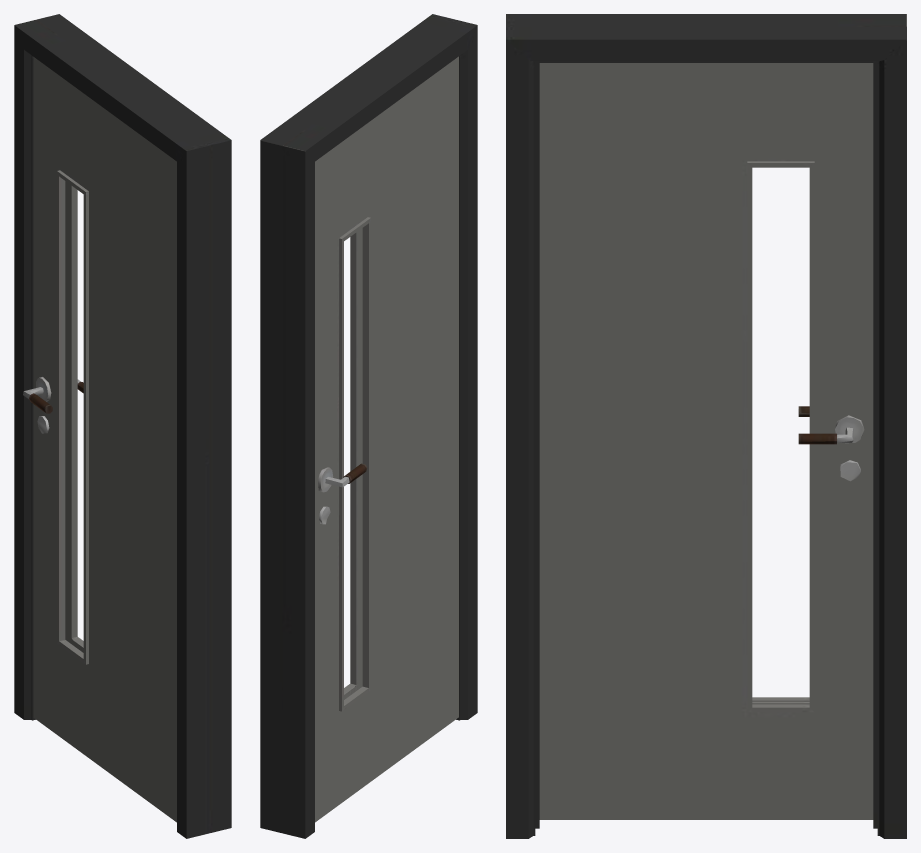
File: Door0028.obj
3 renders of one model, left to right at view 1: azimuth 30°, elevation 25°; view 2: azimuth 150°, elevation 25°; view 3: azimuth 270°, elevation 25°, orthographic. The views are drawn at different scales.
Bounding box in the file's own units: 0.196 × 2.12 × 0.964.
1 material, 1 textured.
